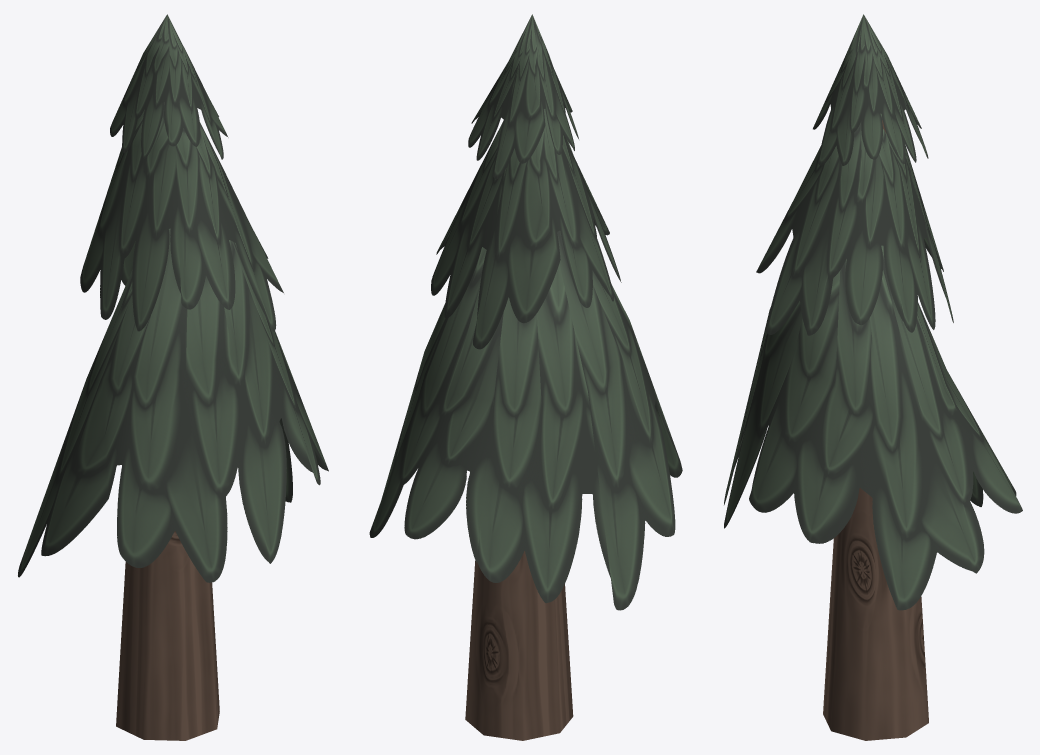
File: tree_c_03.FBX
The picture shows the model from 3 angles, left to right: view 1: azimuth 30°, elevation 25°; view 2: azimuth 150°, elevation 25°; view 3: azimuth 270°, elevation 25°; orthographic projection.
Parts seen in each view (by area): view 1: tree_c_03; view 2: tree_c_03; view 3: tree_c_03.
Part boxes in pixels (x1=…): tree_c_03: x1=18, y1=14, x2=328, y2=740; tree_c_03: x1=369, y1=14, x2=682, y2=740; tree_c_03: x1=724, y1=14, x2=1022, y2=740.
Size of the model in its own units: 27.14 by 64.44 by 25.53.
Materials: 2 (2 with a texture image).
